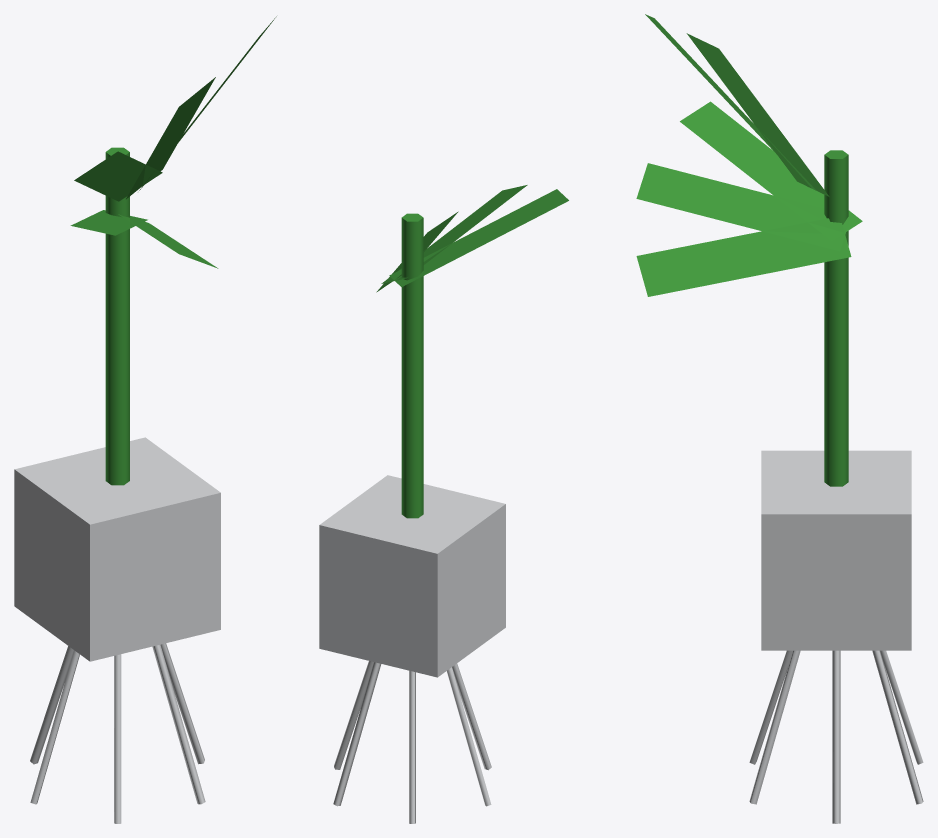
The model's file is plant-cutting-in-cube.glb.
The picture shows the model from 3 angles, left to right: view 1: azimuth 30°, elevation 25°; view 2: azimuth 150°, elevation 25°; view 3: azimuth 270°, elevation 25°; orthographic projection. The views are drawn at different scales.
Visible parts, largest first — view 1: cube, stem, roots, leaves; view 2: cube, stem, roots, leaves; view 3: cube, leaves, stem, roots.
Part boxes in pixels (box(x1,y1,x2,y2)): cube: box(14, 437, 220, 661); stem: box(105, 147, 129, 485); roots: box(30, 643, 205, 823); leaves: box(70, 16, 276, 268); cube: box(319, 475, 505, 677); stem: box(401, 213, 423, 518); roots: box(333, 661, 491, 823); leaves: box(376, 185, 568, 292); cube: box(761, 450, 911, 650); leaves: box(636, 14, 862, 296); stem: box(824, 150, 848, 486); roots: box(749, 650, 923, 823).
Size of the model in its own units: 0.0443 by 0.1437 by 0.0476.
